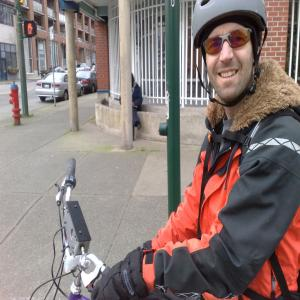Vehicle-registration-plate: (44, 84, 51, 88)
